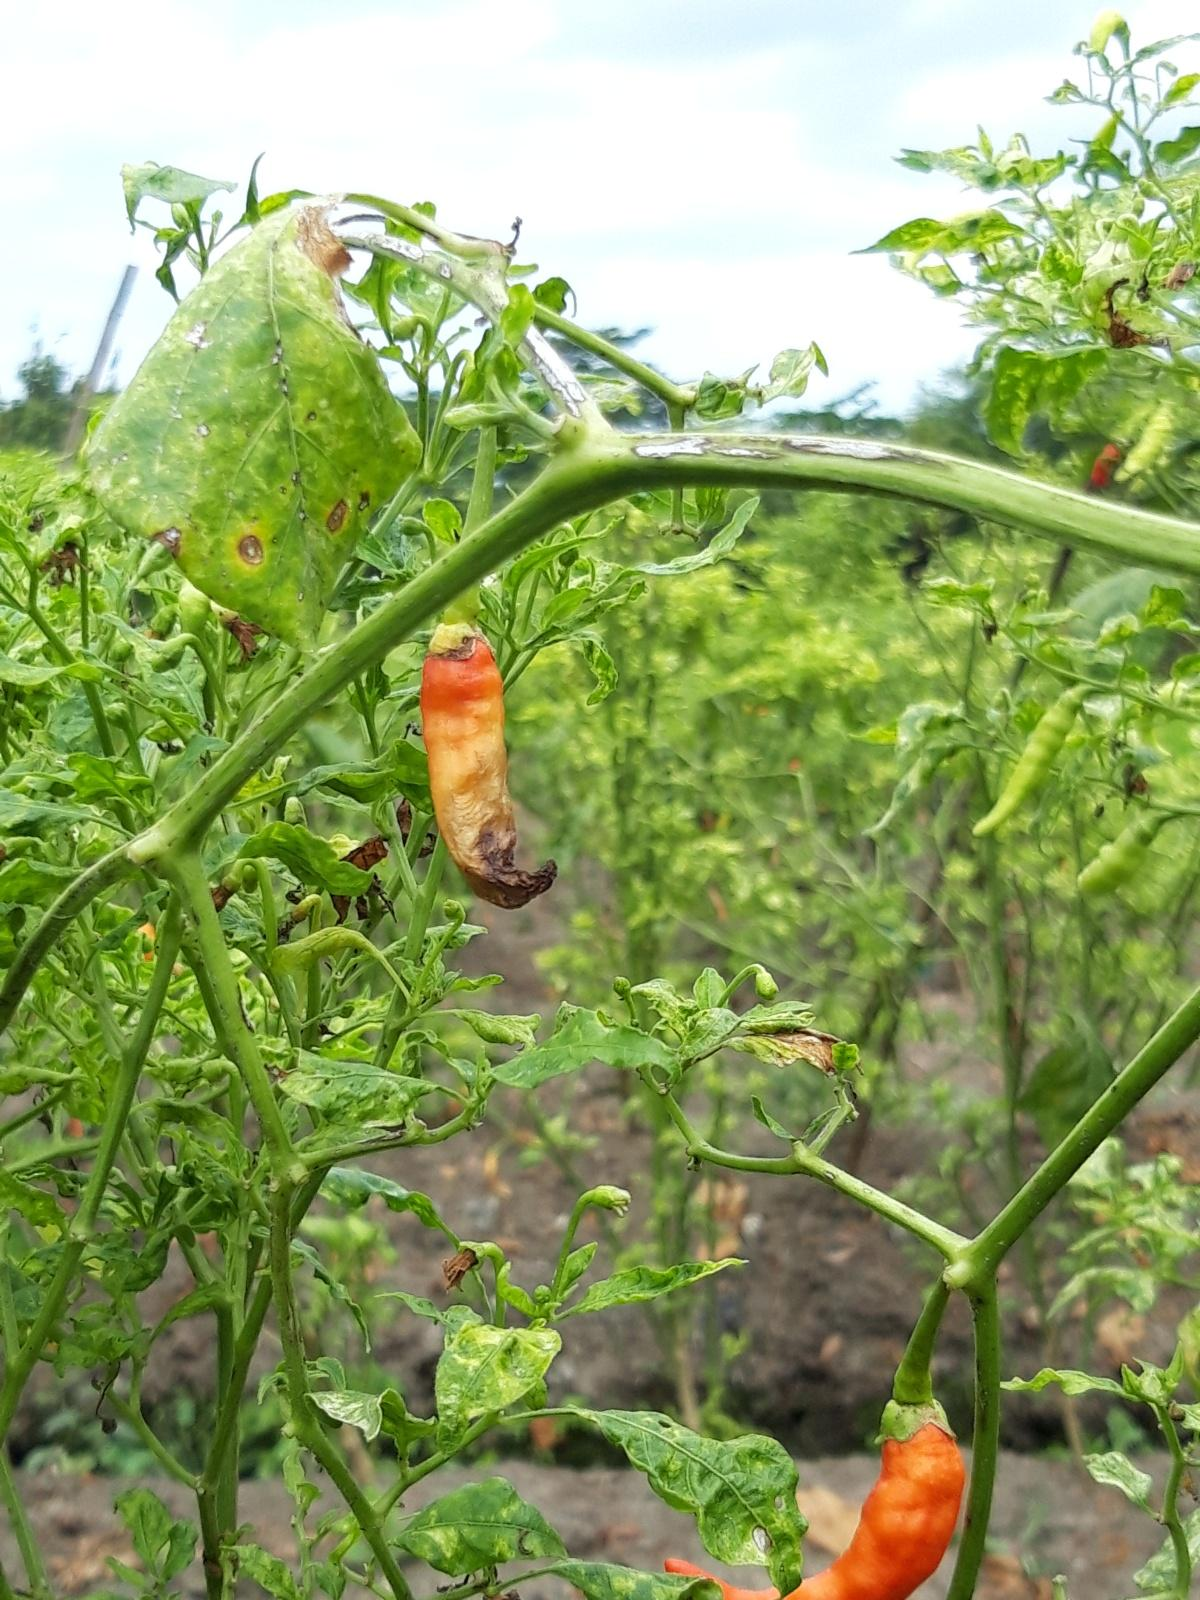antraknosa: (420, 624, 557, 910)
cabai_normal: (666, 1398, 966, 1600)
